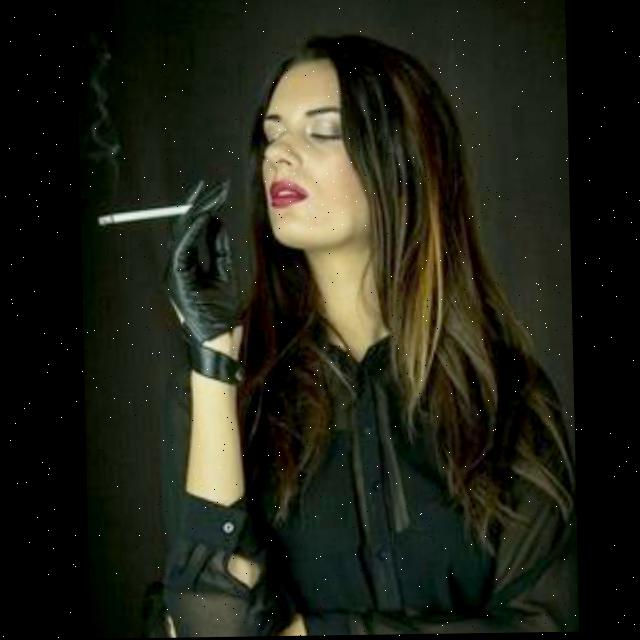cigarette: (97, 205, 191, 223)
